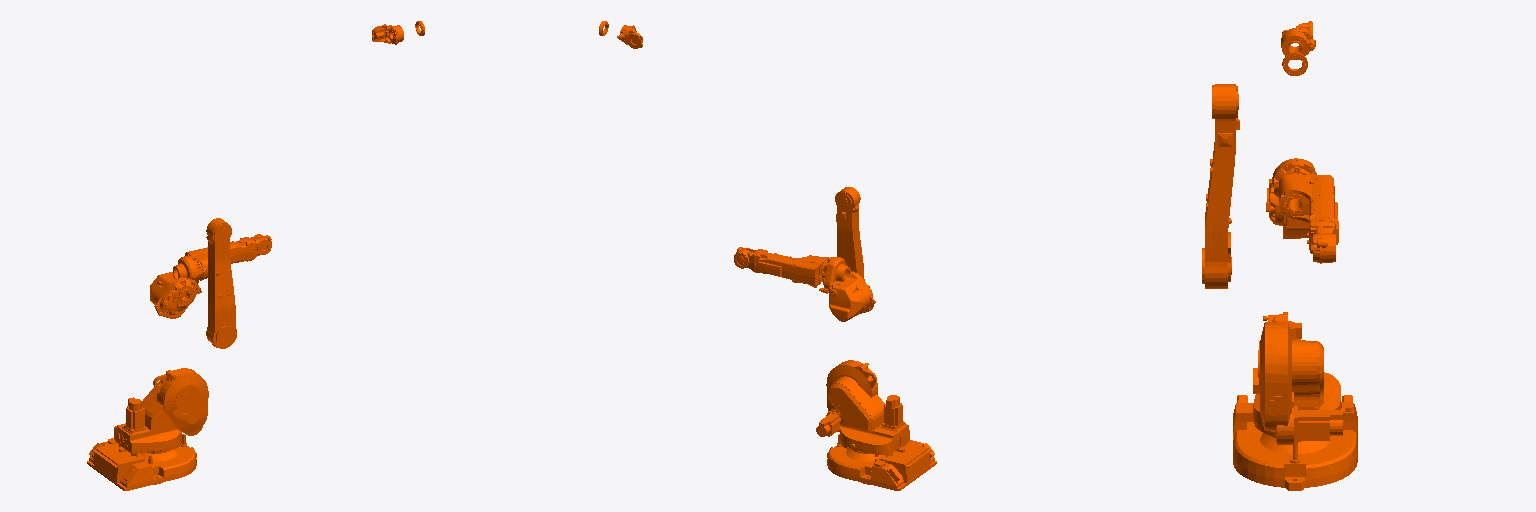
The robot description file, URDF, robot "irb1660_6_155":
<?xml version="1.0" ?>
<robot name="irb1660_6_155" xmlns:xacro="http://ros.org/wiki/xacro">
  <!-- link list -->
  <link name="base_link">
    <visual>
      <origin rpy="0 0 0" xyz="0 0 0"/>
      <geometry>
        <mesh filename="package://abb_irb1660_support/meshes/base_link.stl"/>
      </geometry>
      <material name="abb_orange">
        <color rgba="1 0.43 0 1"/>
      </material>
    </visual>
    <collision>
      <geometry>
        <mesh filename="package://abb_irb1660_support/meshes/base_link.stl"/>
      </geometry>
      <material name="yellow">
        <color rgba="0 1 1 1"/>
      </material>
    </collision>
  </link>
  <link name="link_1">
    <visual>
      <origin rpy="0 0 0" xyz="0 0 0"/>
      <geometry>
        <mesh filename="package://abb_irb1660_support/meshes/link_1.stl"/>
      </geometry>
      <material name="abb_orange"/>
    </visual>
    <collision>
      <origin rpy="0 0 0" xyz="0 0 0"/>
      <geometry>
        <mesh filename="package://abb_irb1660_support/meshes/link_1.stl"/>
      </geometry>
      <material name="yellow"/>
    </collision>
  </link>
  <link name="link_2">
    <visual>
      <origin rpy="0 0 0" xyz="0 0 0"/>
      <geometry>
        <mesh filename="package://abb_irb1660_support/meshes/link_2.stl"/>
      </geometry>
      <material name="abb_orange"/>
    </visual>
    <collision>
      <origin rpy="0 0 0" xyz="0 0 0"/>
      <geometry>
        <mesh filename="package://abb_irb1660_support/meshes/link_2.stl"/>
      </geometry>
      <material name="yellow"/>
    </collision>
  </link>
  <link name="link_3">
    <visual>
      <origin rpy="0 0 0" xyz="0 0 0"/>
      <geometry>
        <mesh filename="package://abb_irb1660_support/meshes/link_3.stl"/>
      </geometry>
      <material name="abb_orange"/>
    </visual>
    <collision>
      <origin rpy="0 0 0" xyz="0 0 0"/>
      <geometry>
        <mesh filename="package://abb_irb1660_support/meshes/link_3.stl"/>
      </geometry>
      <material name="yellow"/>
    </collision>
  </link>
  <link name="link_4">
    <visual>
      <origin rpy="0 0 0" xyz="0 0 0"/>
      <geometry>
        <mesh filename="package://abb_irb1660_support/meshes/link_4.stl"/>
      </geometry>
      <material name="abb_orange"/>
    </visual>
    <collision>
      <origin rpy="0 0 0" xyz="0 0 0"/>
      <geometry>
        <mesh filename="package://abb_irb1660_support/meshes/link_4.stl"/>
      </geometry>
      <material name="yellow"/>
    </collision>
  </link>
  <link name="link_5">
    <visual>
      <origin rpy="0 0 0" xyz="0 0 0"/>
      <geometry>
        <mesh filename="package://abb_irb1660_support/meshes/link_5.stl"/>
      </geometry>
      <material name="abb_orange"/>
    </visual>
    <collision>
      <origin rpy="0 0 0" xyz="0 0 0"/>
      <geometry>
        <mesh filename="package://abb_irb1660_support/meshes/link_5.stl"/>
      </geometry>
      <material name="yellow"/>
    </collision>
  </link>
  <link name="link_6">
    <visual>
      <origin rpy="0 0 0" xyz="0 0 0"/>
      <geometry>
        <mesh filename="package://abb_irb1660_support/meshes/link_6.stl"/>
      </geometry>
      <material name="abb_orange"/>
    </visual>
    <collision>
      <origin rpy="0 0 0" xyz="0 0 0"/>
      <geometry>
        <mesh filename="package://abb_irb1660_support/meshes/link_6.stl"/>
      </geometry>
      <material name="yellow"/>
    </collision>
  </link>
  <link name="tool0"/>

  <!-- end of link list -->
  <!-- joint list -->
 
  <joint name="joint_1" type="revolute">
    <origin rpy="0 0 0" xyz="0 0 0.124"/>
    <parent link="base_link"/>
    <child link="link_1"/>
    <axis xyz="0 0 1"/>
    <limit effort="0" lower="-3.14159" upper="3.14159" velocity="3.14159"/>
  </joint>
  <joint name="joint_2" type="revolute">
    <origin rpy="0 0 0" xyz="0.15 -0.107 0.3625"/>
    <parent link="link_1"/>
    <child link="link_2"/>
    <axis xyz="0 1 0"/>
    <limit effort="0" lower="-1.5708" upper="2.61799" velocity="3.14159"/>
  </joint>
  <joint name="joint_3" type="revolute">
    <origin rpy="0 0 0" xyz="0 0 0.7"/>
    <parent link="link_2"/>
    <child link="link_3"/>
    <axis xyz="0 1 0"/>
    <limit effort="0" lower="-4.15388" upper="1.37881" velocity="3.14159"/>
  </joint>
  <joint name="joint_4" type="revolute">
    <origin rpy="0 0 0" xyz="0.128 0.107 0.108"/>
    <parent link="link_3"/>
    <child link="link_4"/>
    <axis xyz="1 0 0"/>
    <limit effort="0" lower="-3.05433" upper="3.05433" velocity="5.58505"/>
  </joint>
  <joint name="joint_5" type="revolute">
    <origin rpy="0 0 0" xyz="0.55 0 0"/>
    <parent link="link_4"/>
    <child link="link_5"/>
    <axis xyz="0 1 0"/>
    <limit effort="0" lower="-2.0944" upper="2.0944" velocity="6.28319"/>
  </joint>
  <joint name="joint_6" type="revolute">
    <origin rpy="0.0 0 0" xyz="0.135 0 0"/>
    <parent link="link_5"/>
    <child link="link_6"/>
    <axis xyz="1 0 0"/>
    <limit effort="0" lower="-6.98132" upper="6.98132" velocity="8.72665"/>
  </joint>
  <joint name="joint_6-tool0" type="fixed">
    <parent link="link_6"/>
    <child link="tool0"/>
    <origin rpy="0 0 0" xyz="0 0 0"/>
  </joint>
  
  <!-- end of joint list -->
</robot>

--- Facts derived from the render (not from the file) ---
The picture shows the robot from 3 angles, left to right: view 1: azimuth 30°, elevation 25°; view 2: azimuth 150°, elevation 25°; view 3: azimuth 270°, elevation 25°; orthographic projection.
Robot: irb1660_6_155 — 8 links, 7 joints (6 revolute, 1 fixed); root link base_link; default pose: every joint at zero.
Visible links, largest first — view 1: link_1, base_link, link_2, link_3, link_4, link_5; view 2: link_1, base_link, link_3, link_4, link_2; view 3: link_1, base_link, link_2, link_4, link_3, link_5.
Boxes of the visible links, x1,y1,x2,y2 form: link_1: [114, 368, 208, 456]; base_link: [87, 434, 196, 490]; link_2: [206, 218, 236, 348]; link_3: [150, 256, 202, 318]; link_4: [185, 234, 271, 280]; link_5: [372, 24, 403, 44]; link_1: [816, 360, 909, 456]; base_link: [827, 434, 936, 490]; link_3: [819, 257, 875, 321]; link_4: [734, 247, 827, 287]; link_2: [835, 187, 864, 280]; link_1: [1253, 312, 1344, 444]; base_link: [1233, 395, 1357, 490]; link_2: [1202, 84, 1239, 288]; link_4: [1274, 173, 1338, 263]; link_3: [1266, 158, 1337, 238]; link_5: [1281, 21, 1315, 59].
Size in the robot's own frame: 2.31 by 0.6013 by 2.65 metres.
7 mesh visuals loaded from 7 distinct referenced files (4 binary STL, 3 ASCII STL).